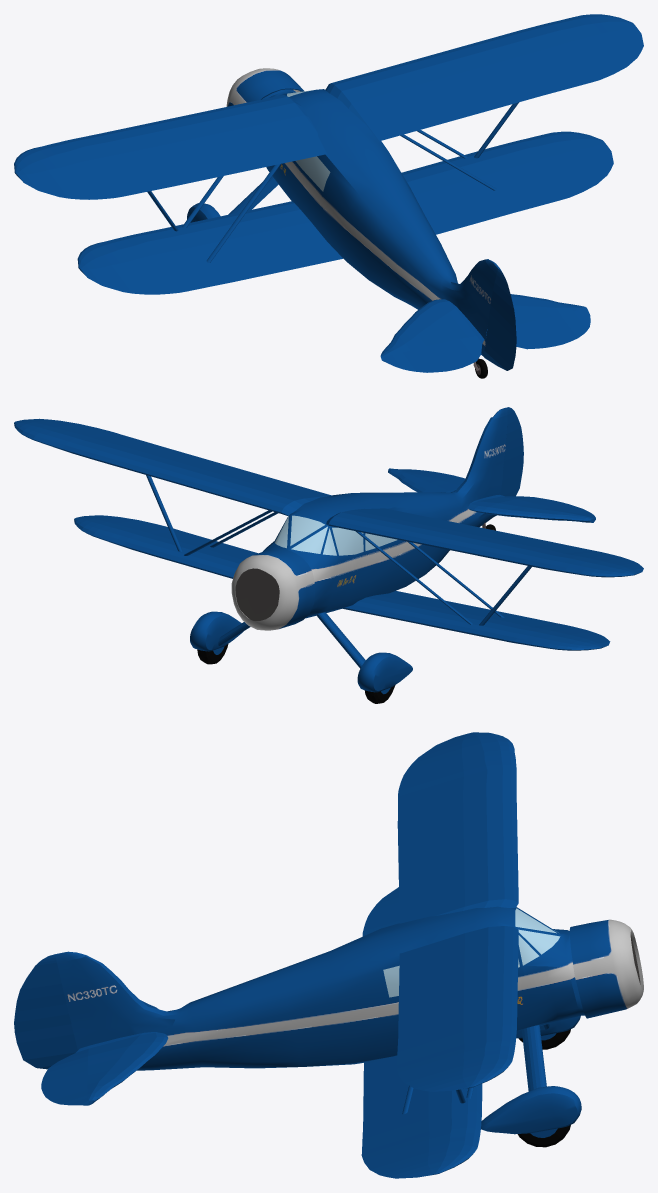
File: Waco-S.glb
The picture shows the model from 3 angles, top to bottom: view 1: azimuth 30°, elevation 25°; view 2: azimuth 150°, elevation 25°; view 3: azimuth 270°, elevation 25°; orthographic projection. The views are drawn at different scales.
Parts seen in each view (by area): view 1: WacoMainWing, WacoSFuselage, WacoHStab, WacoRudder; view 2: WacoMainWing, WacoSFuselage, WacoHStab, MainGear, FaringL, WacoRudder, FaringR; view 3: WacoMainWing, WacoSFuselage, WacoHStab, WacoRudder, FaringR, MainGear.
Boxes of the visible parts, x1=… form: WacoMainWing: x1=14, y1=14, x2=643, y2=294; WacoSFuselage: x1=226, y1=68, x2=499, y2=356; WacoHStab: x1=380, y1=294, x2=590, y2=372; WacoRudder: x1=483, y1=268, x2=516, y2=370; WacoMainWing: x1=14, y1=418, x2=643, y2=650; WacoSFuselage: x1=231, y1=408, x2=507, y2=630; WacoHStab: x1=388, y1=468, x2=595, y2=522; MainGear: x1=197, y1=612, x2=395, y2=703; FaringL: x1=357, y1=652, x2=412, y2=692; WacoRudder: x1=494, y1=407, x2=523, y2=516; FaringR: x1=190, y1=611, x2=243, y2=651; WacoMainWing: x1=361, y1=732, x2=518, y2=1178; WacoSFuselage: x1=55, y1=906, x2=643, y2=1070; WacoHStab: x1=41, y1=1000, x2=168, y2=1105; WacoRudder: x1=14, y1=954, x2=77, y2=1069; FaringR: x1=481, y1=1086, x2=581, y2=1134; MainGear: x1=517, y1=1023, x2=570, y2=1147.
Size of the model in its own units: 11.39 by 2.96 by 8.56.
2 materials, 2 textured.
